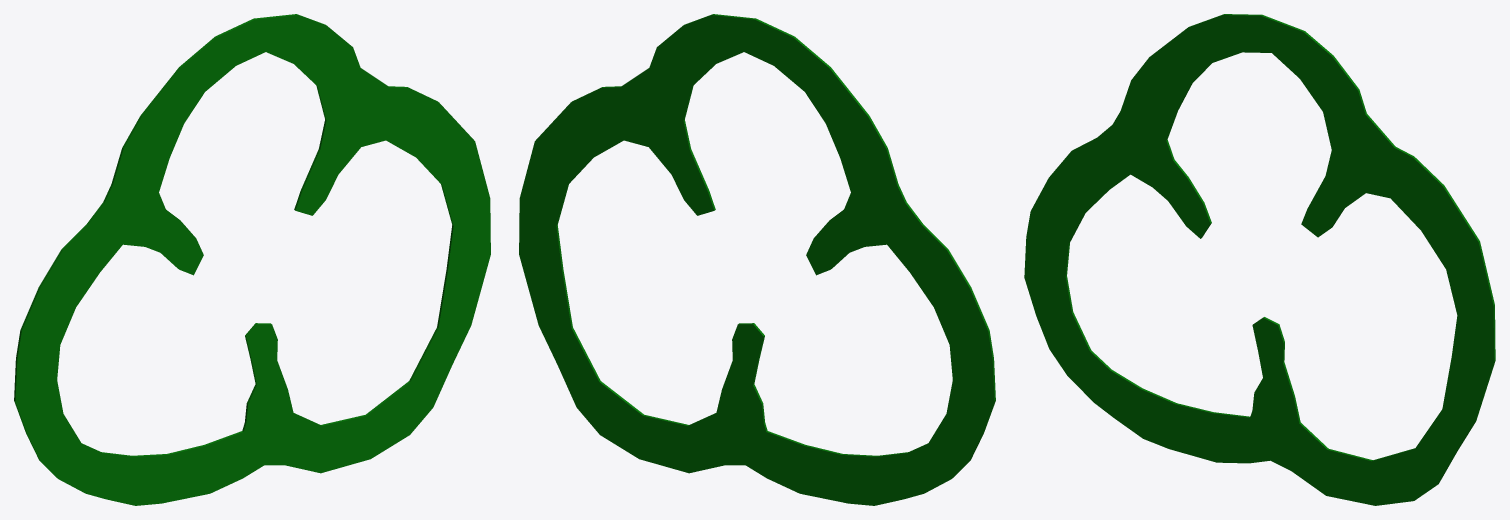
File: biber dilim.fbx
3 renders of one model, left to right at view 1: azimuth 30°, elevation 25°; view 2: azimuth 150°, elevation 25°; view 3: azimuth 330°, elevation 25°, orthographic.
Visible parts, largest first — view 1: Plane; view 2: Plane; view 3: Plane.
Boxes of the visible parts, x1,y1,x2,y2 form: Plane: [14, 14, 490, 505]; Plane: [519, 14, 995, 505]; Plane: [1024, 14, 1495, 505].
Bounding box in the file's own units: 153 × 144 × 0.7952.
